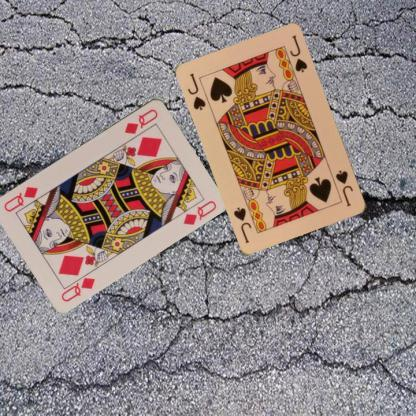Js: (186, 71, 208, 112), (333, 168, 355, 208)
Qd: (58, 267, 96, 303), (122, 106, 159, 135)
